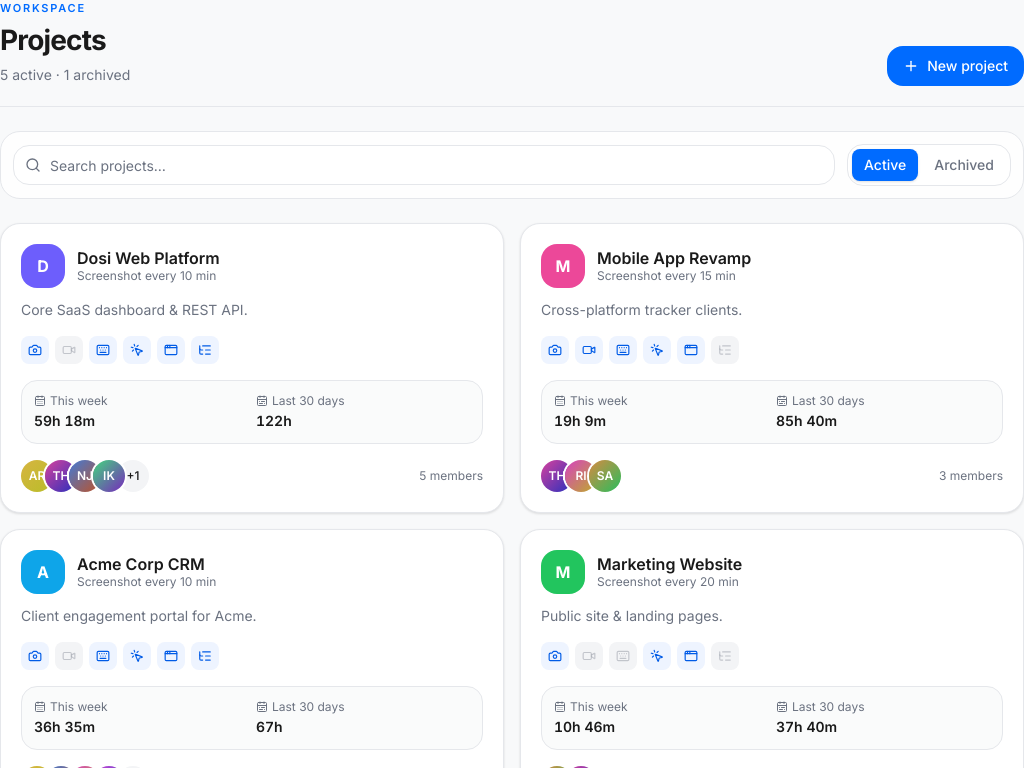
Test: projects page — create project (owner, demo mode) › cannot advance past Details until a title is entered
The image size is (1024, 768).
Click the button "New project". click: (956, 66)
box: [887, 46, 1023, 86]
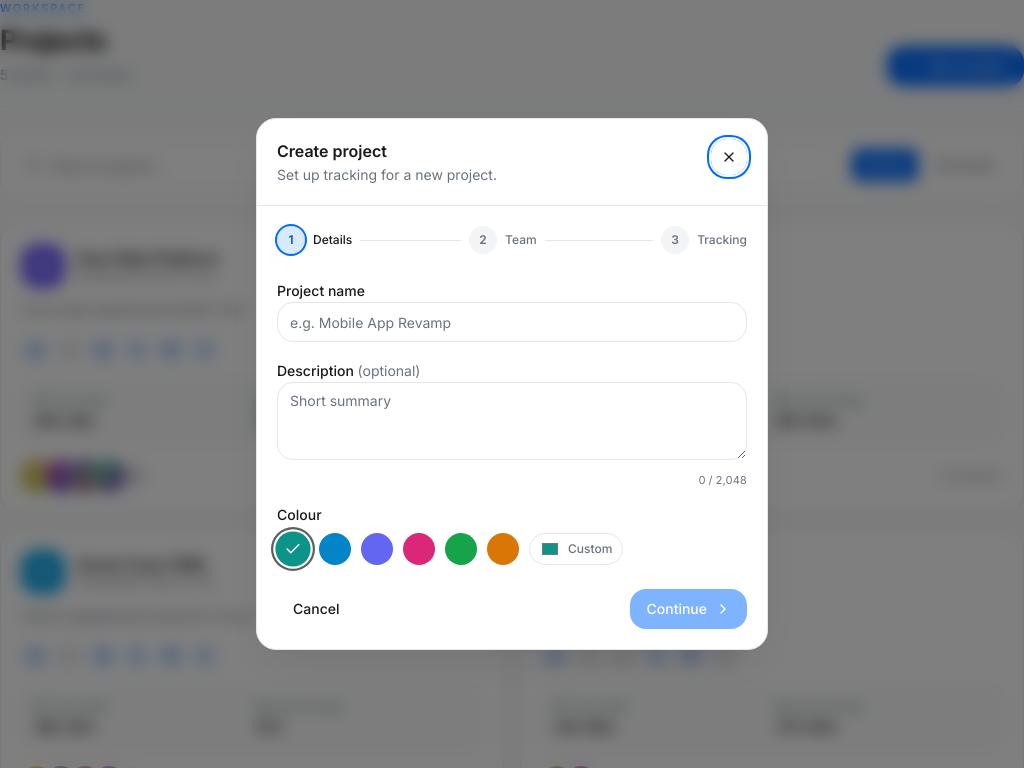
Expected: the heading "Create project" is shown, [277, 141, 387, 161]
Expected: the button "Continue" is disabled
Click the button "Continue". click: (689, 609)
box: [630, 589, 747, 629]
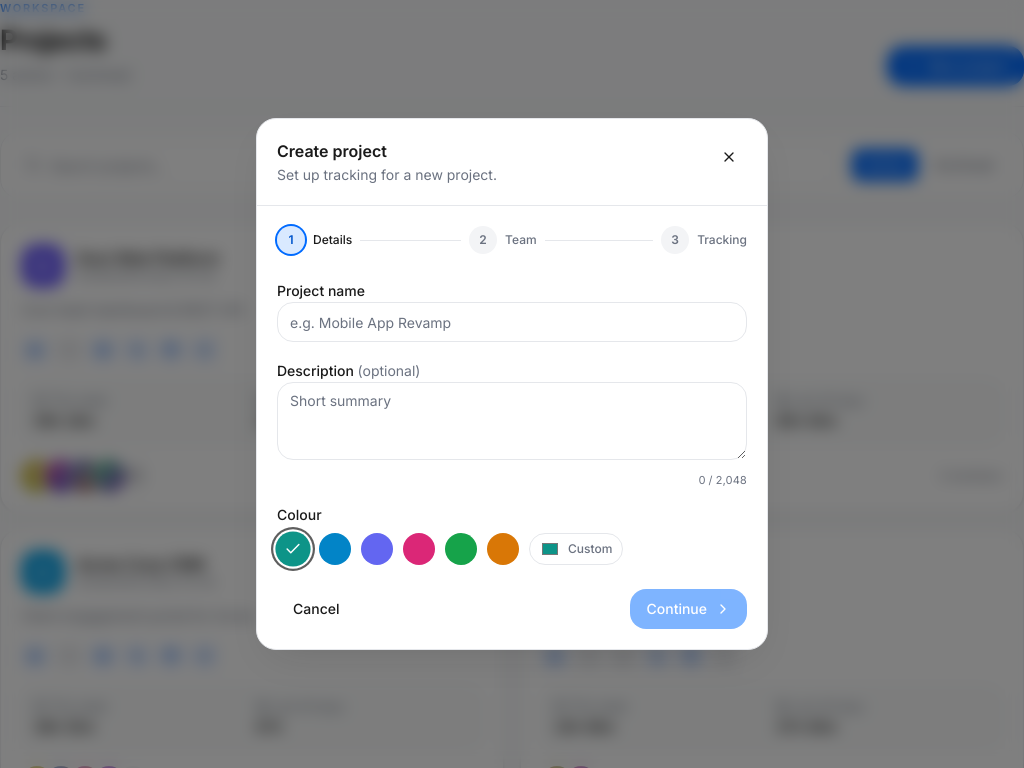
Expected: the text "Project name" is shown, [277, 282, 365, 299]
Type "Orbital Launch" into the field with placeholder "e.g. Mobile App Revamp". click: (512, 322)
box: [277, 302, 747, 342]
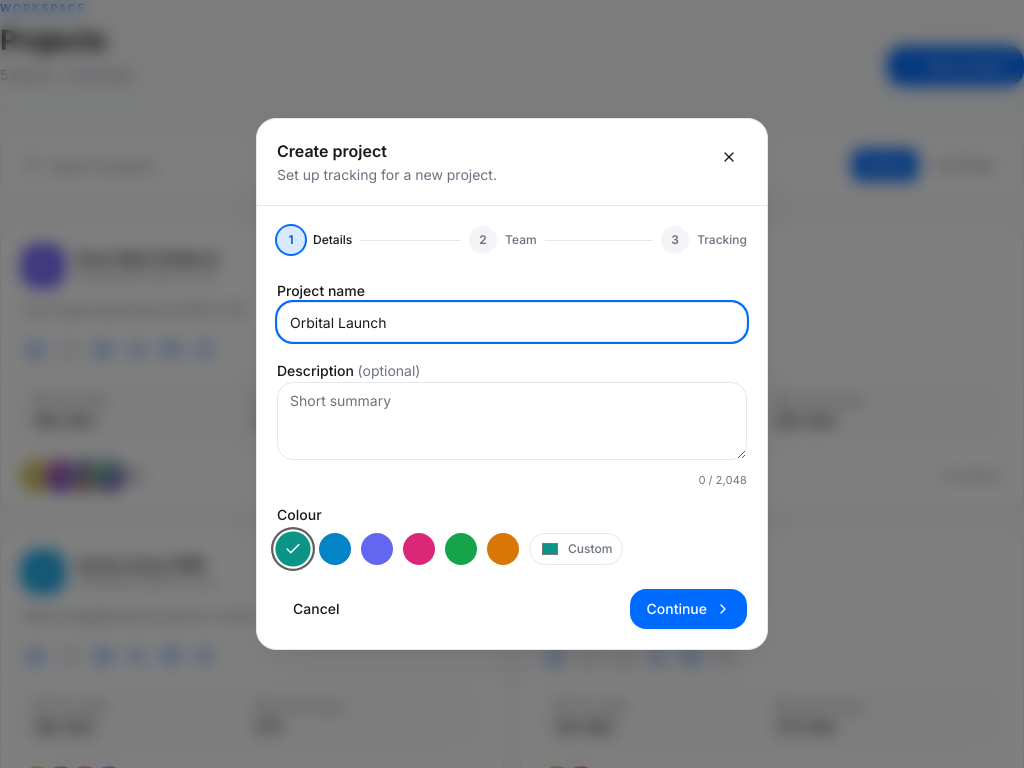
Expected: the button "Continue" is enabled, [630, 589, 747, 629]
